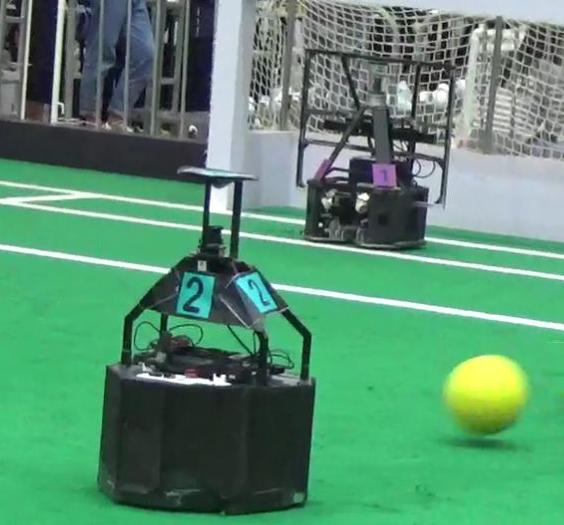robot: (90, 148, 326, 519), (305, 66, 435, 255)
